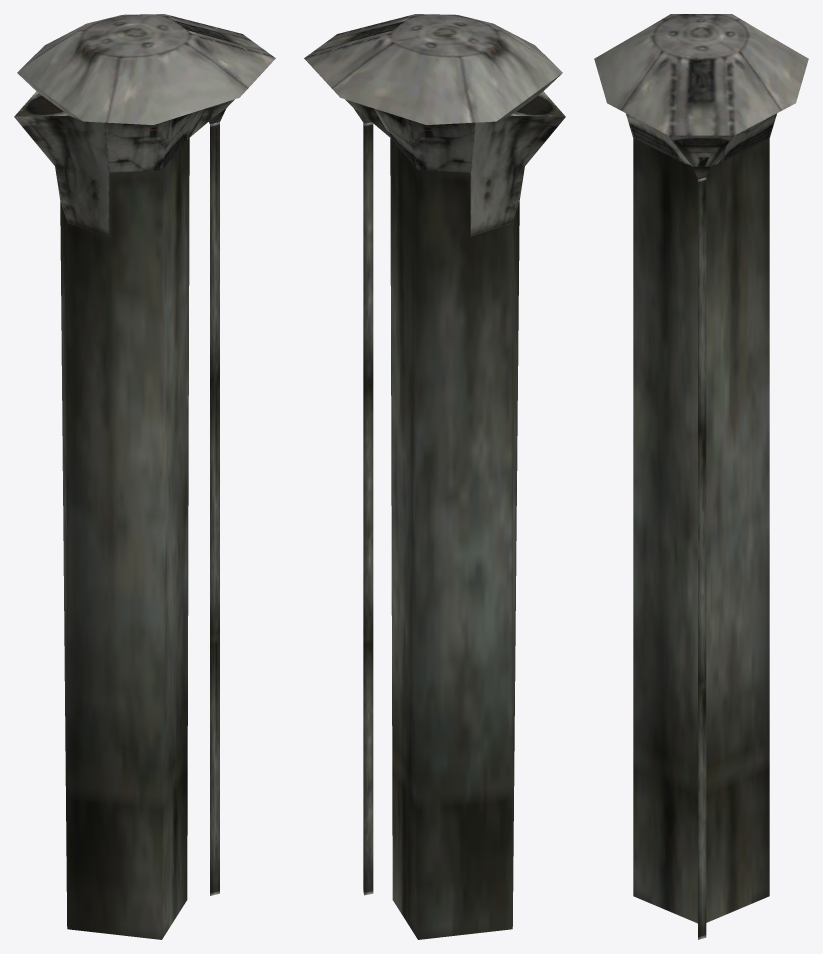
Rendered from ins_all_min_s02_u1_piston_l2.fbx.
The picture shows the model from 3 angles, left to right: view 1: azimuth 30°, elevation 25°; view 2: azimuth 150°, elevation 25°; view 3: azimuth 270°, elevation 25°; orthographic projection.
Visible parts, largest first — view 1: mesh_node; view 2: mesh_node; view 3: mesh_node.
Boxes of the visible parts, x1,y1,x2,y2 form: mesh_node: (14, 14, 275, 939); mesh_node: (304, 14, 565, 939); mesh_node: (594, 14, 808, 939).
Bounding box in the file's own units: 3.5 × 12 × 2.69.
1 material, 1 textured.
